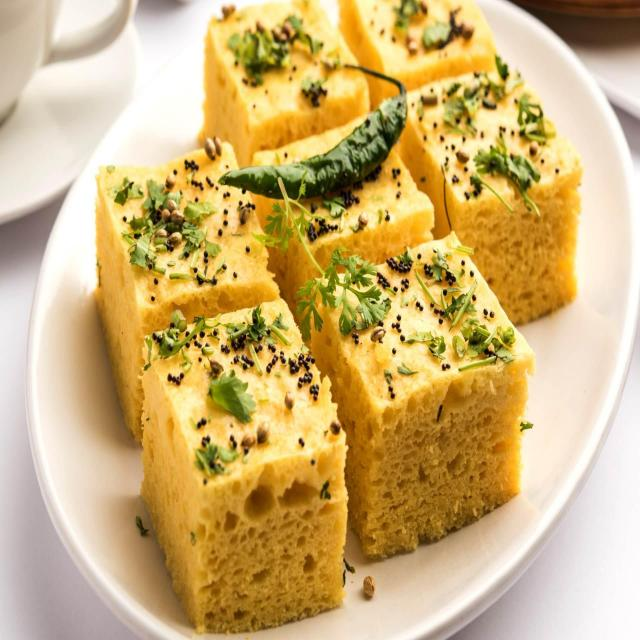dhokla: (97, 4, 580, 640)
